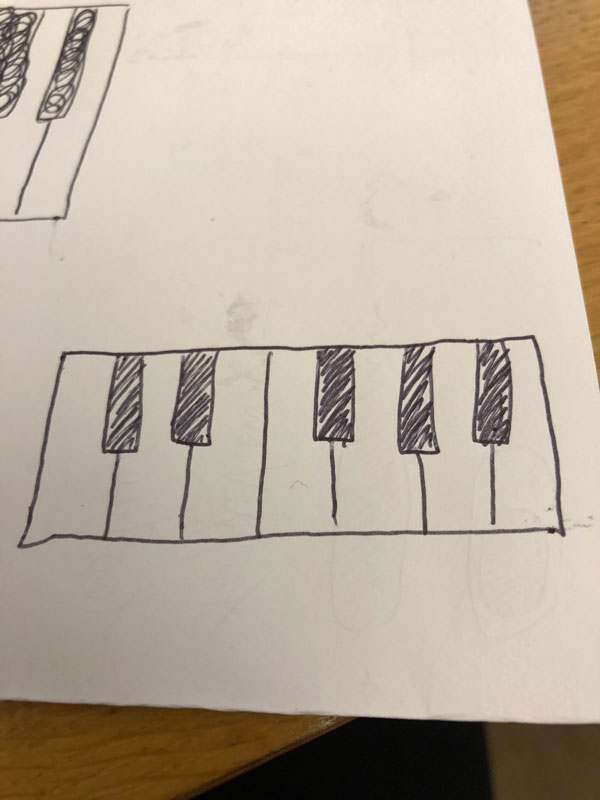piano: (13, 322, 577, 548)
